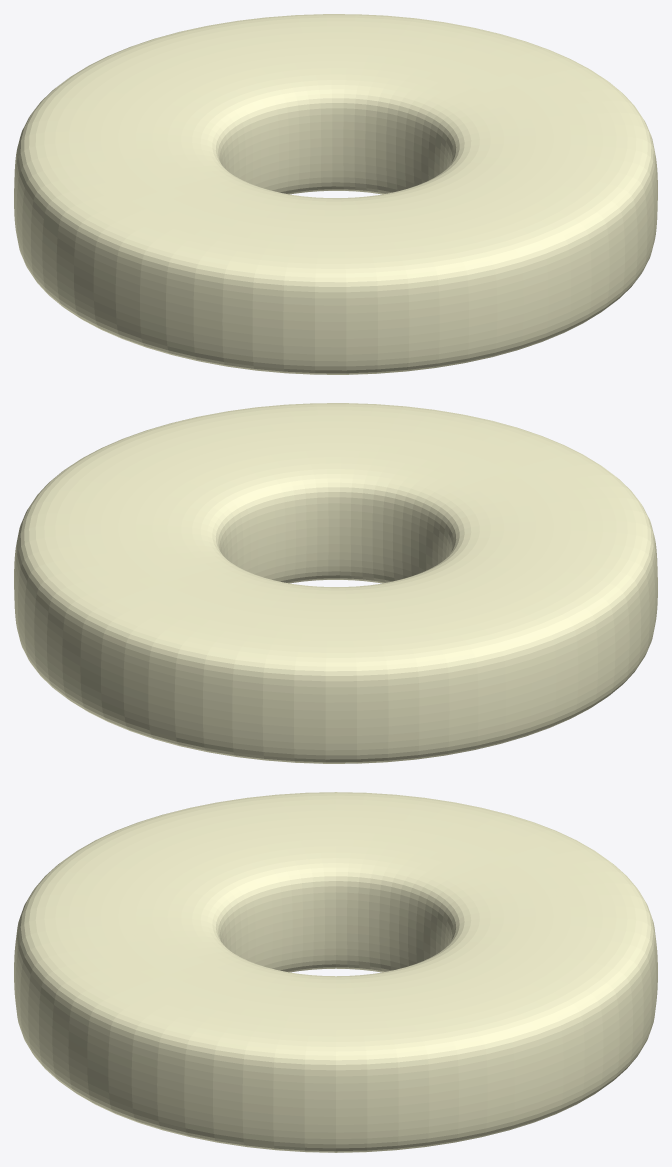
File: LifeSaver.dae
The picture shows the model from 3 angles, top to bottom: view 1: azimuth 30°, elevation 25°; view 2: azimuth 150°, elevation 25°; view 3: azimuth 270°, elevation 25°; orthographic projection.
Visible parts, largest first — view 1: LifeSaver; view 2: LifeSaver; view 3: LifeSaver.
Boxes of the visible parts, <box> form: LifeSaver: <box>14,14,657,374</box>; LifeSaver: <box>14,403,657,763</box>; LifeSaver: <box>14,792,657,1152</box>.
Bounding box in the file's own units: 0.5491 × 0.1057 × 0.5491.
